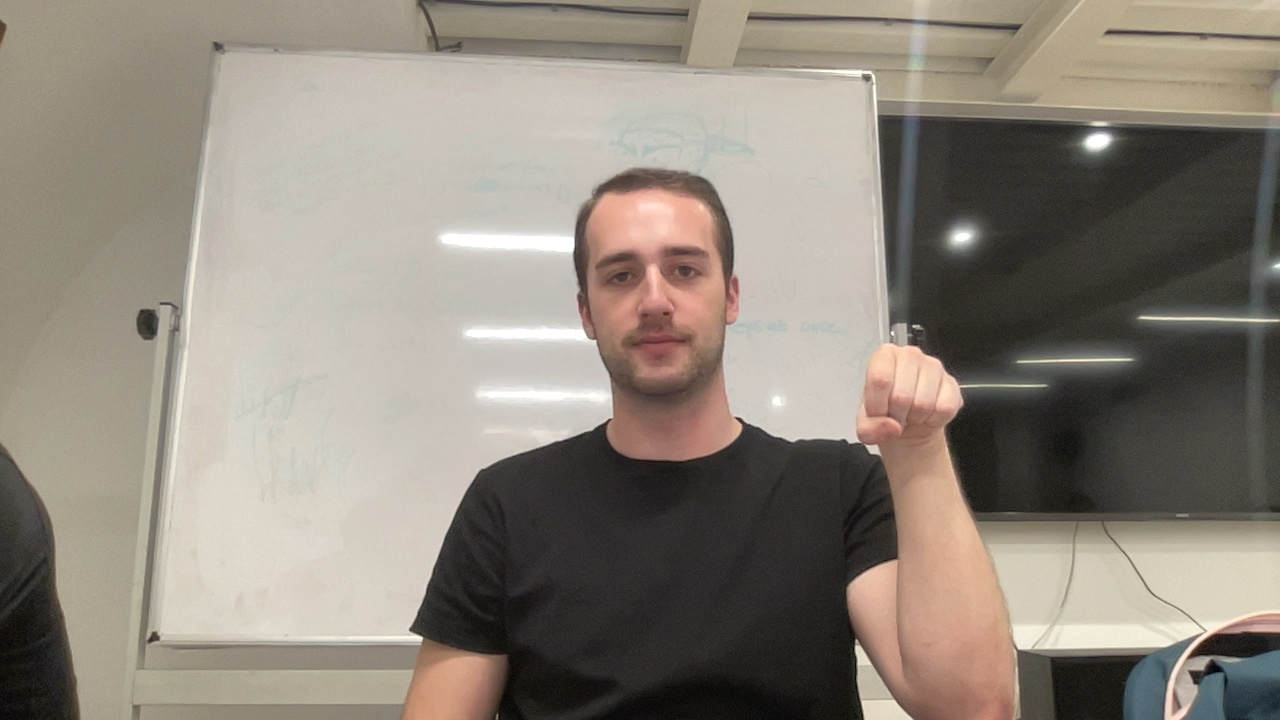Yes: (849, 340, 972, 477)
